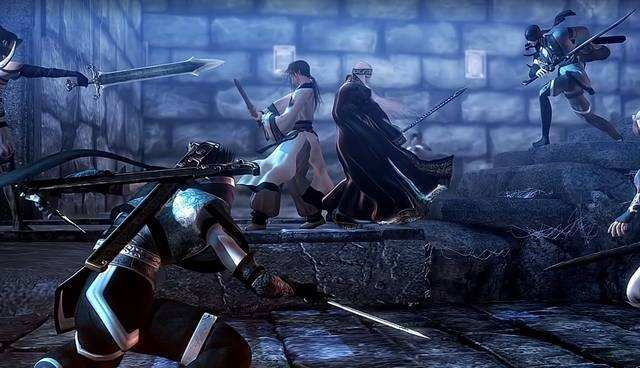person: (20, 134, 327, 367), (322, 58, 457, 222), (235, 59, 333, 233), (513, 9, 626, 150)
